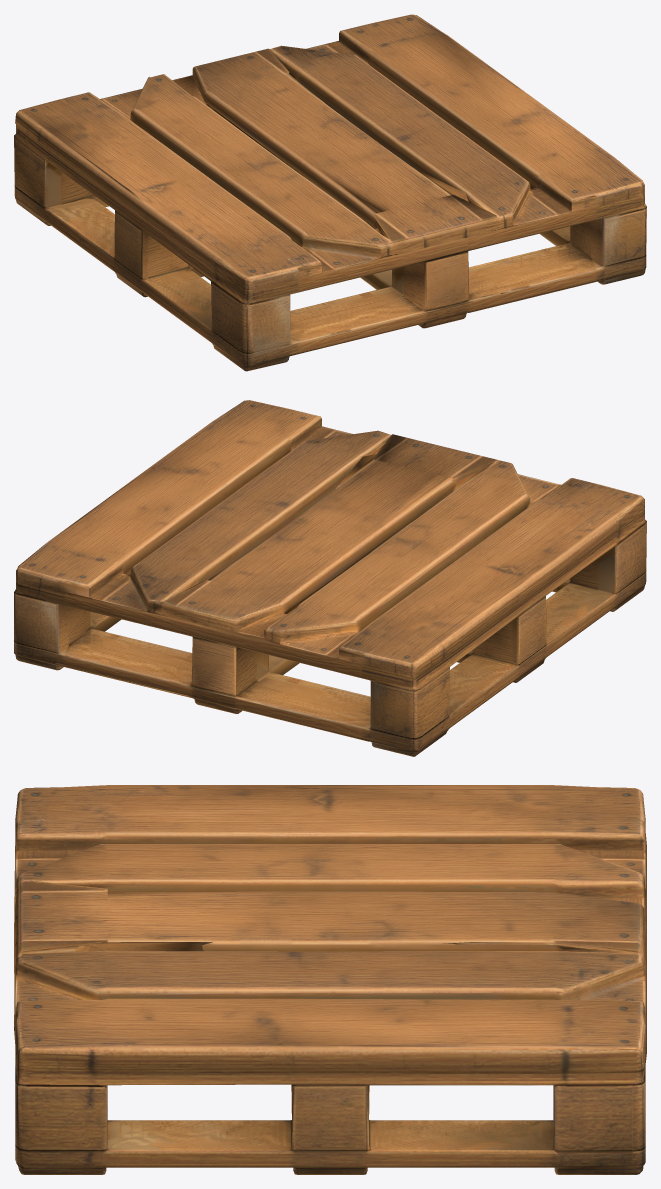
File: Pallet.glb
3 renders of one model, top to bottom at view 1: azimuth 30°, elevation 25°; view 2: azimuth 150°, elevation 25°; view 3: azimuth 270°, elevation 25°, orthographic. The views are drawn at different scales.
Visible parts, largest first — view 1: Mesh_0; view 2: Mesh_0; view 3: Mesh_0.
Boxes of the visible parts, left/top/right/bottom form: Mesh_0: left=14, top=14, right=646, bottom=371; Mesh_0: left=14, top=400, right=646, bottom=756; Mesh_0: left=14, top=785, right=646, bottom=1174.
Size of the model in its own units: 0.6581 by 0.15 by 0.6581.
Materials: 1 (1 with a texture image).
